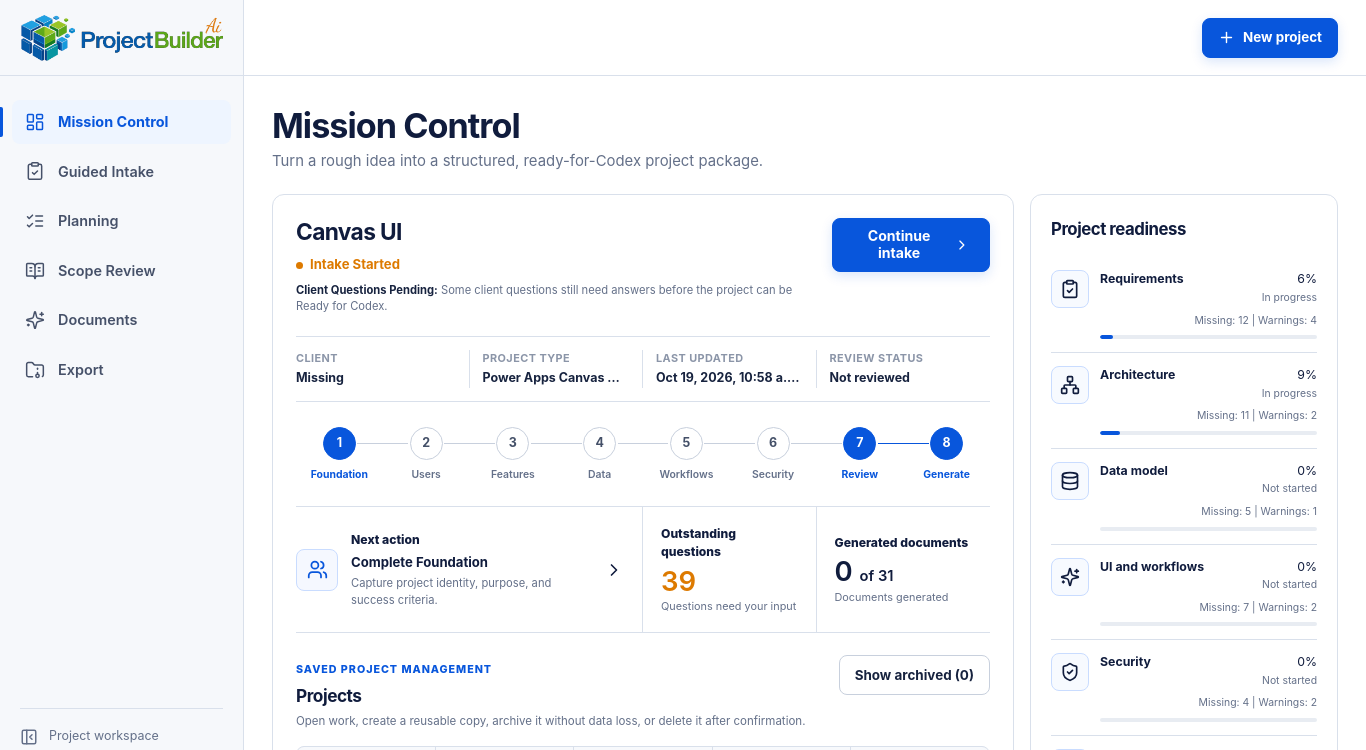
Test: App - power Platform Canvas › shows conditional Power Platform intake sections for Canvas backends
Click the button "4 Data": (600, 454) x1=556 y1=426 x2=643 y2=482
(page scrolled)
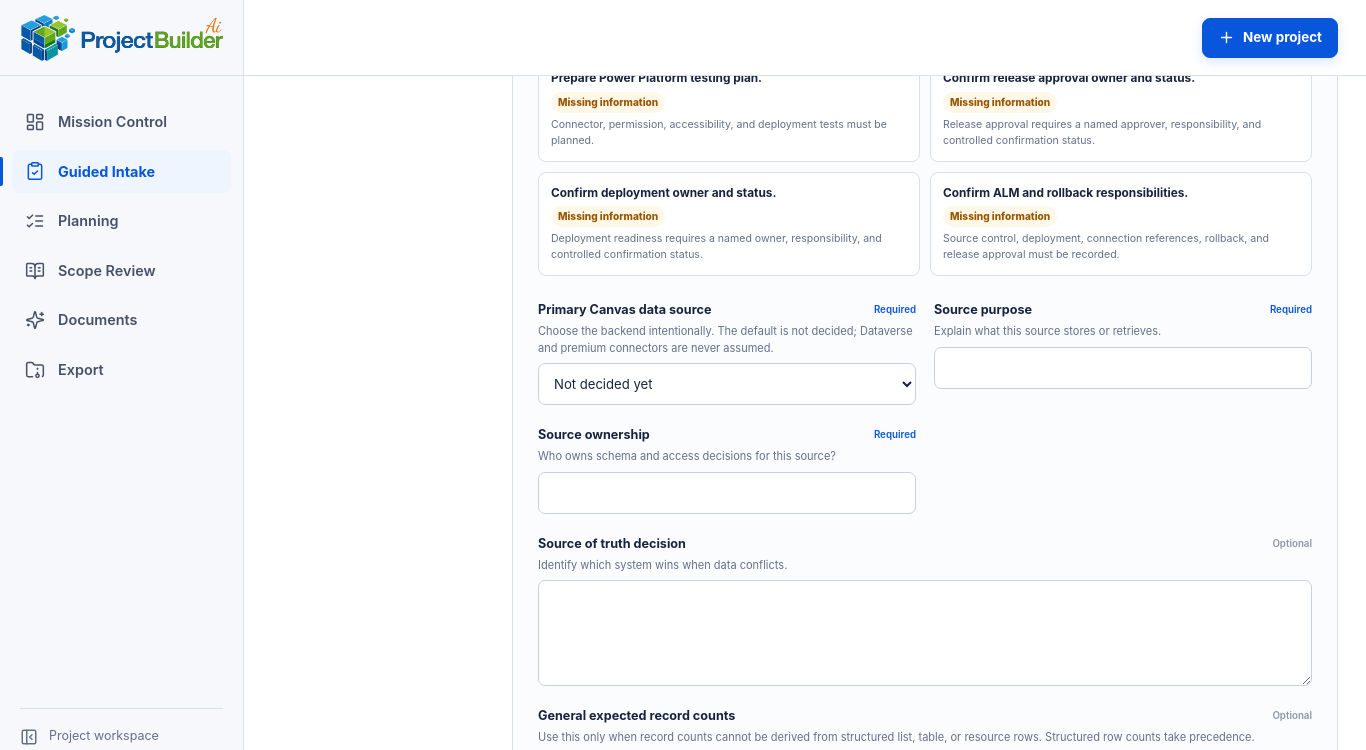
Check: the dropdown labelled "Primary Canvas data source Required" shows "Not decided yet"
Select "SharePoint list" in the dropdown labelled "Primary Canvas data source Required": (727, 384) x1=538 y1=363 x2=916 y2=405
(page scrolled)
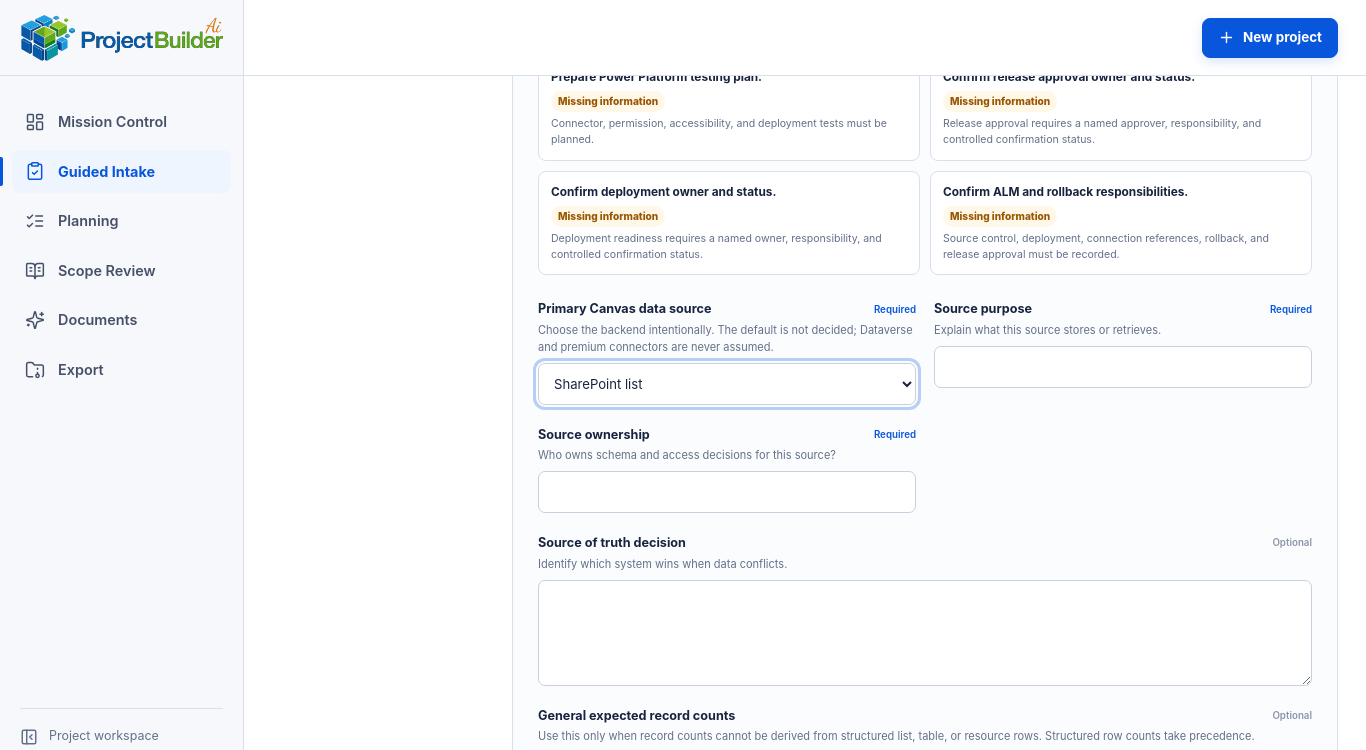
Check: the heading "Canvas Dataverse schema" is not shown
Select "Dataverse" in the dropdown labelled "Primary Canvas data source Required": (727, 384) x1=538 y1=362 x2=916 y2=404
(page scrolled)
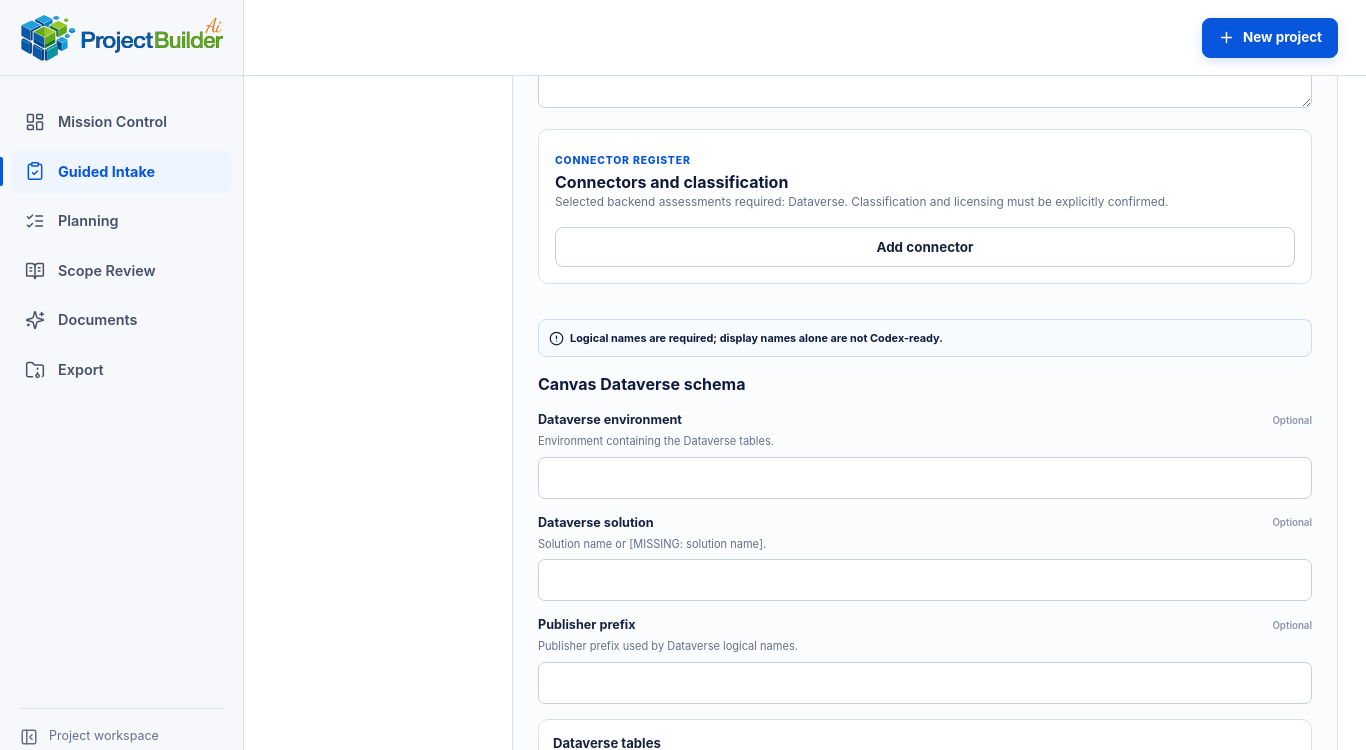
Check: the heading "Canvas Dataverse schema" is shown, box x1=538 y1=374 x2=746 y2=394
